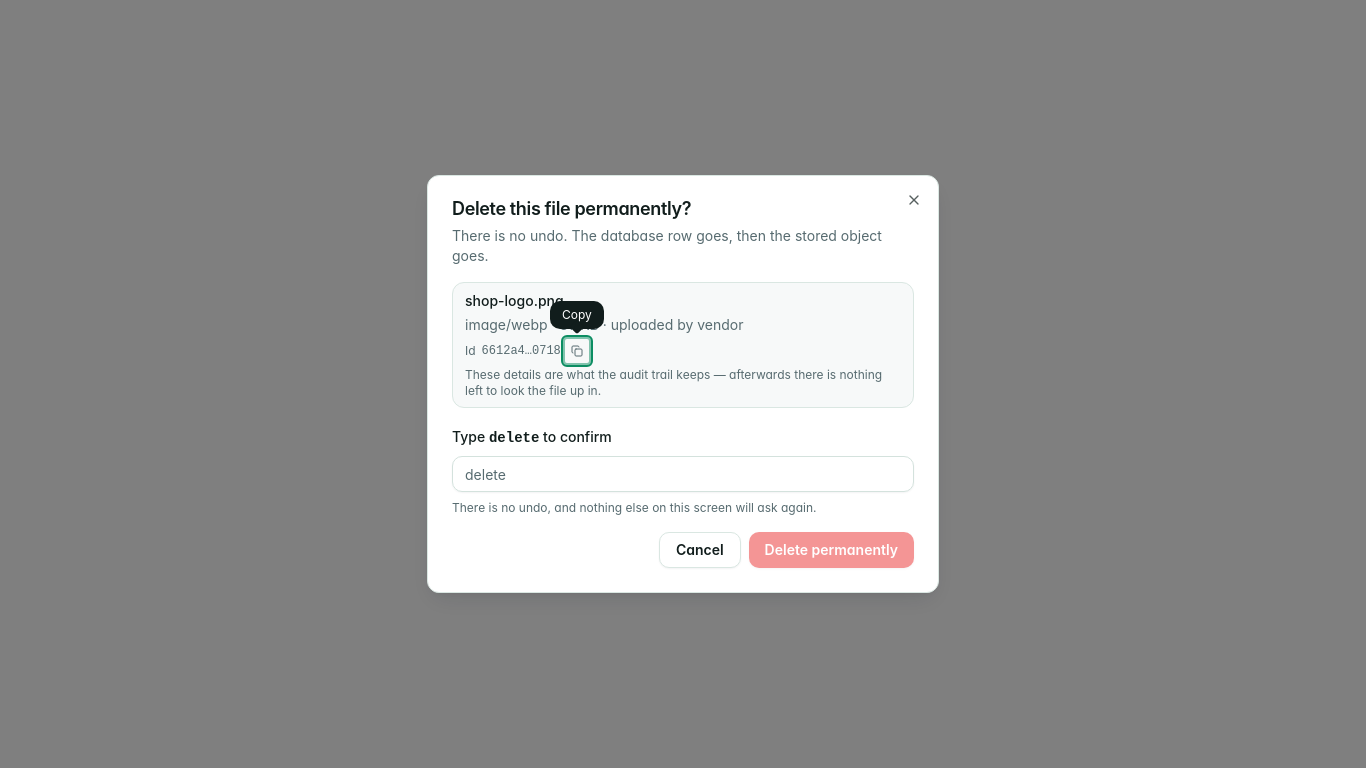
Test: what the operator is asked for › accepts the word however it was capitalised
Type "  DeLeTe  " into the field with placeholder "delete" at (683, 474), box 452,456 -> 914,492
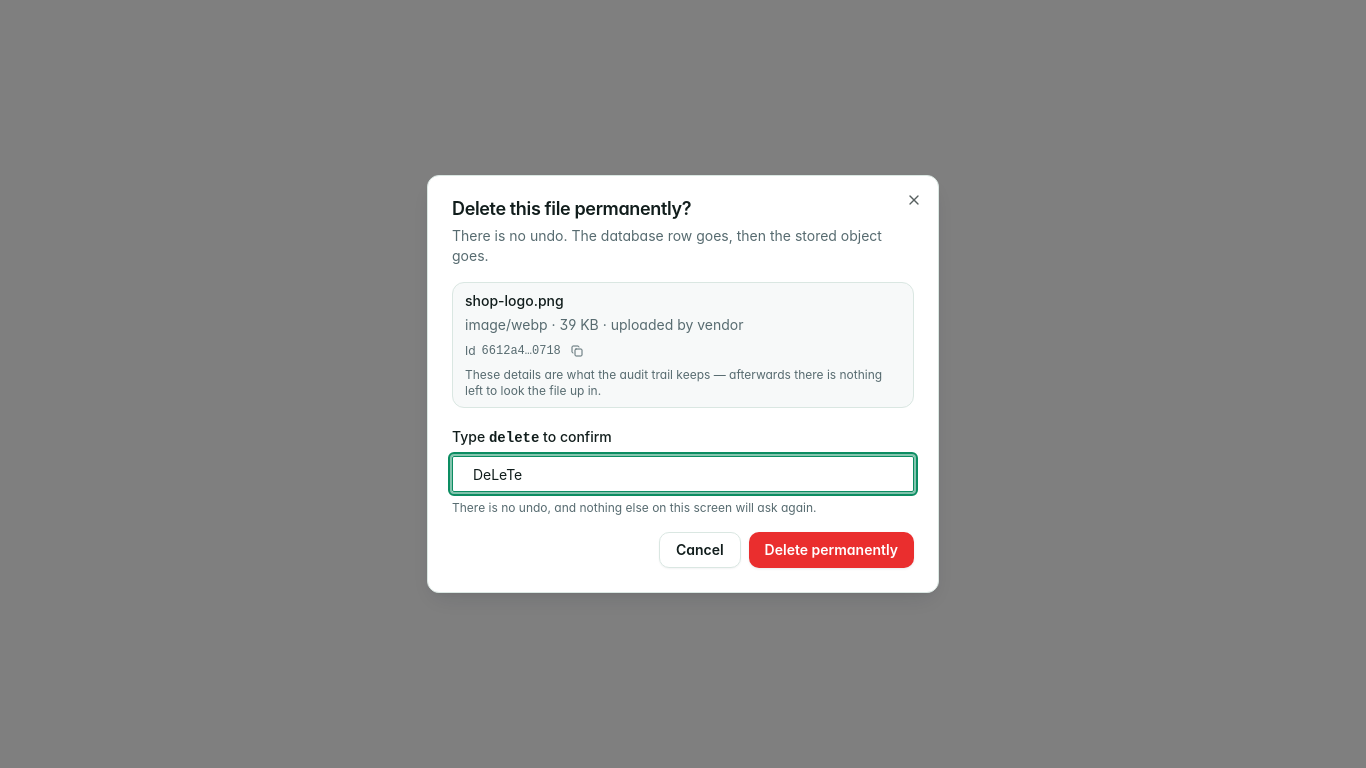
Check: the button "Delete permanently" is enabled, box 749,532 -> 914,568
